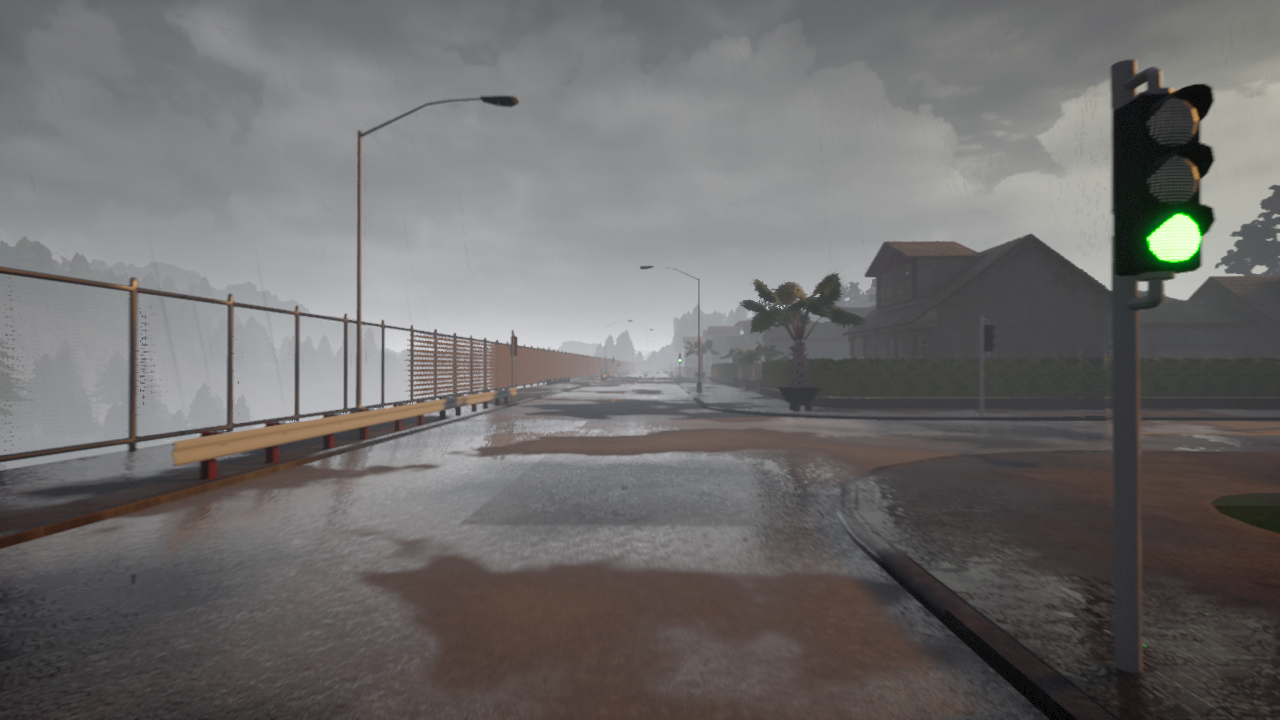green: (1119, 78, 1209, 280)
